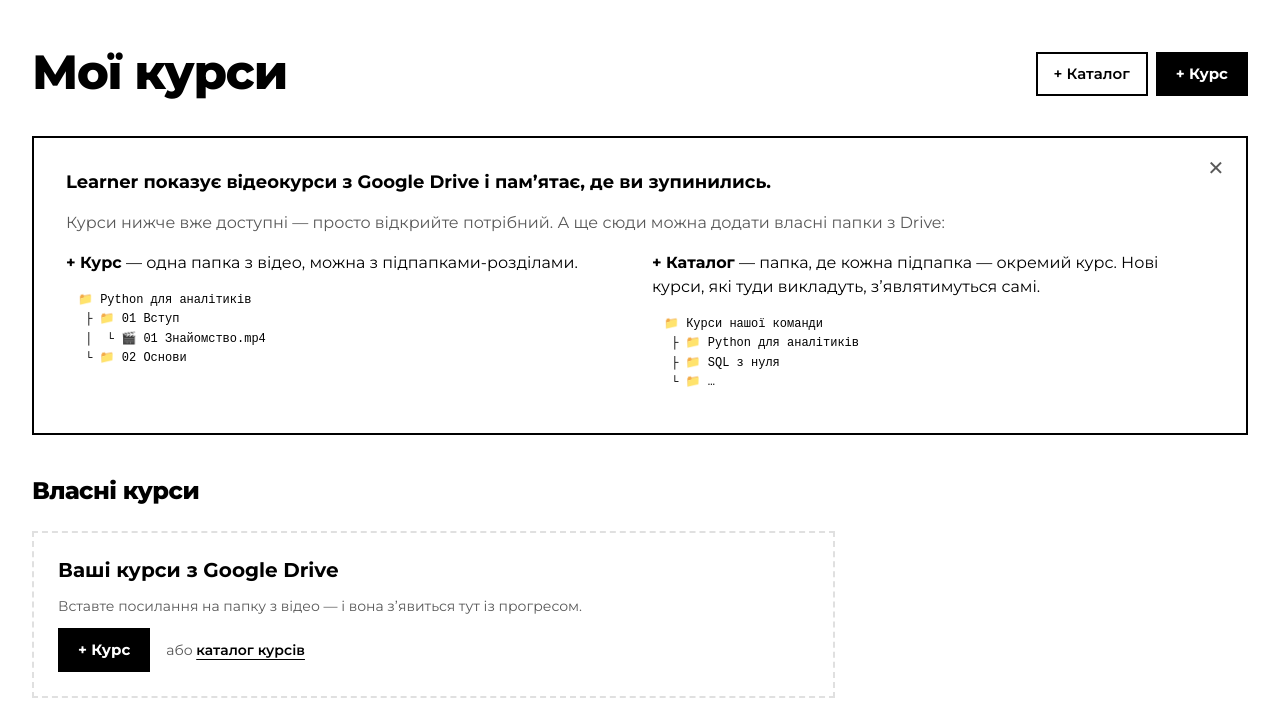
Test: LibraryPage › без власних курсів секція є й запрошує додати свій курс
Check: the text "Ваші курси з Google Drive" is shown, box [58,557,339,584]
Click the button "+ Курс" next to "або" at (104, 650), box [58,628,150,672]
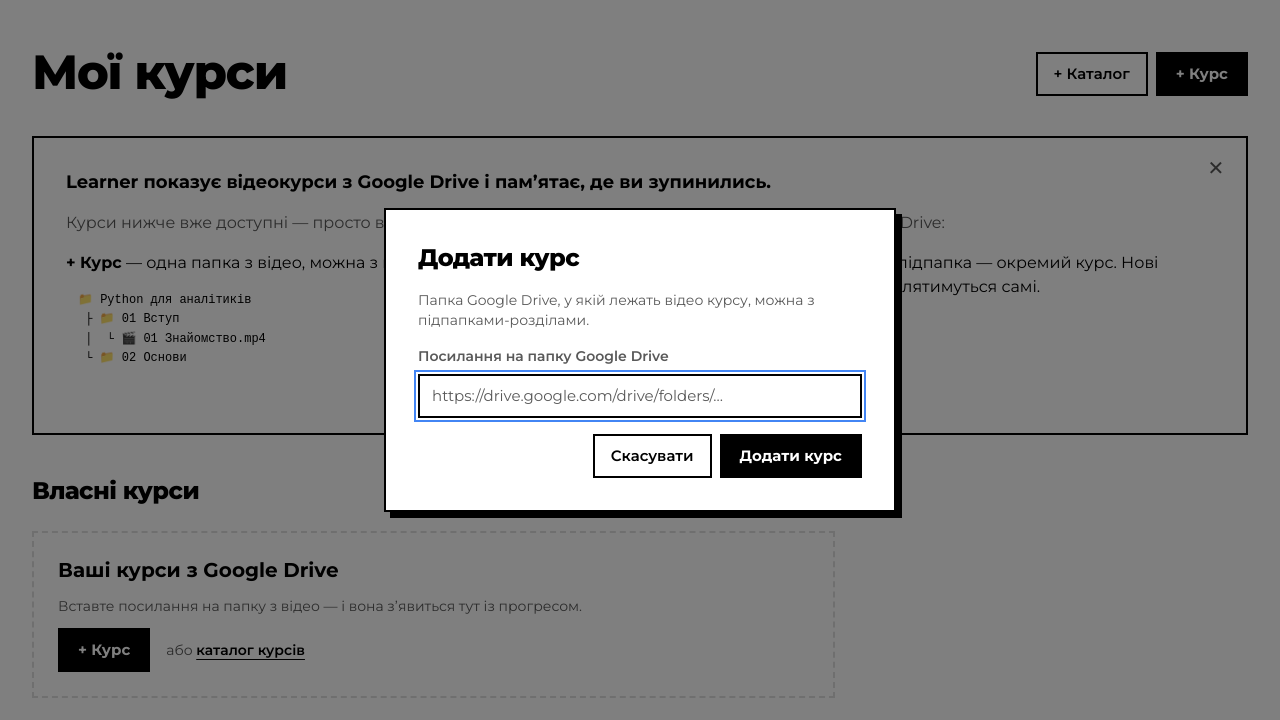
Check: the dialog "Додати курс" is shown, box [384,208,896,512]
